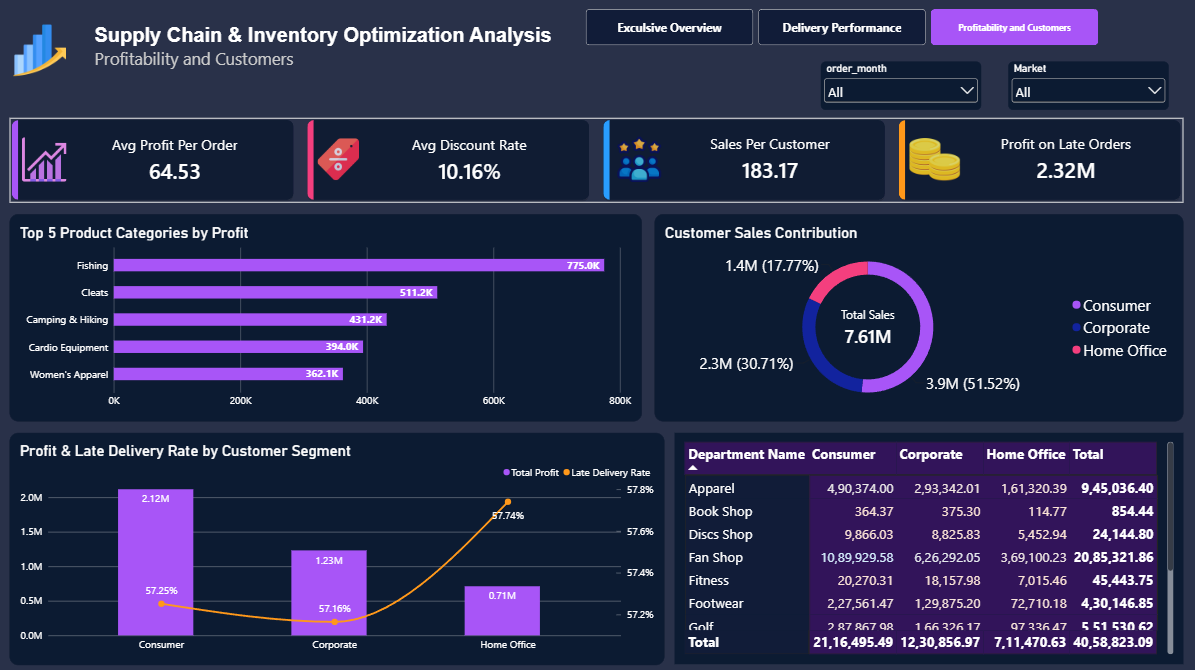

This screenshot's page, from the dashboard's own definition file:
{"tool":"powerbi","page":{"name":"Profitability and Customers","canvas":[1920,1080],"ordinal":2},"visuals":[{"type":"cardVisual","fields":{"Data":["public staging_orders.Avg Profit Per Order","public staging_orders.Avg Discount Rate","Avg(public staging_orders.Sales per customer)","public staging_orders.Profit on Late Orders"]},"box":[19.9,190,1878.4,135.7],"z":0},{"type":"textbox","box":[155.6,39.8,747.4,150.2],"z":1000},{"type":"slicer","fields":{"Values":["public staging_orders.Market"]},"box":[1617.8,99.5,257,77.8],"z":2000},{"type":"slicer","fields":{"Values":["public staging_orders.order_month"]},"box":[1317.4,99.5,257,77.8],"z":3000},{"type":"lineClusteredColumnComboChart","title":"Profit & Late Delivery Rate by Customer Segment","fields":{"Category":["public staging_orders.Customer Segment"],"Y":["public staging_orders.Total Profit"],"Y2":["public staging_orders.Late Delivery Rate"]},"box":[20,694,1048,372],"z":4000},{"type":"clusteredBarChart","title":"Top 5 Product Categories by Profit","fields":{"Category":["public staging_orders.Category Name"],"Y":["public staging_orders.Total Profit"]},"box":[20,344,1012,332],"z":6000},{"type":"donutChart","title":"Customer Sales Contribution","fields":{"Category":["public staging_orders.Customer Segment"],"Y":["public staging_orders.Total Sales"]},"box":[1052,344,846,332],"z":7000},{"type":"image","box":[20,40,96,84],"z":8000},{"type":"pivotTable","title":"Department Name by Customer Segment (Profit)","fields":{"Columns":["public staging_orders.Customer Segment"],"Rows":["public staging_orders.Department Name"],"Values":["public staging_orders.Total Profit"]},"box":[1084,694,814,370],"z":9000},{"type":"pageNavigator","box":[942,16,820,58],"z":9001}]}

Visuals, with their boxes in screenshot pixels (x1, y1, x2, y2), scaled from the page's 1920x1080 canvas onto the 1195x670 screenshot:
cardVisual - public staging_orders.Avg Profit Per Order x public staging_orders.Avg Discount Rate: x1=12 y1=118 x2=1181 y2=202
textbox: x1=97 y1=25 x2=562 y2=118
slicer - public staging_orders.Market: x1=1007 y1=62 x2=1167 y2=110
slicer - public staging_orders.order_month: x1=820 y1=62 x2=980 y2=110
"Profit & Late Delivery Rate by Customer Segment" lineClusteredColumnComboChart: x1=12 y1=431 x2=665 y2=661
"Top 5 Product Categories by Profit" clusteredBarChart: x1=12 y1=213 x2=642 y2=419
"Customer Sales Contribution" donutChart: x1=655 y1=213 x2=1181 y2=419
image: x1=12 y1=25 x2=72 y2=77
"Department Name by Customer Segment (Profit)" pivotTable: x1=675 y1=431 x2=1181 y2=660
pageNavigator: x1=586 y1=10 x2=1097 y2=46
